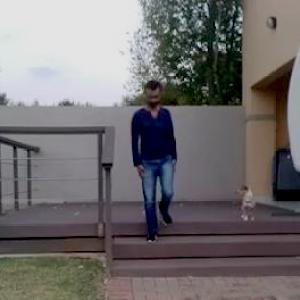follow: (130, 78, 172, 244)
